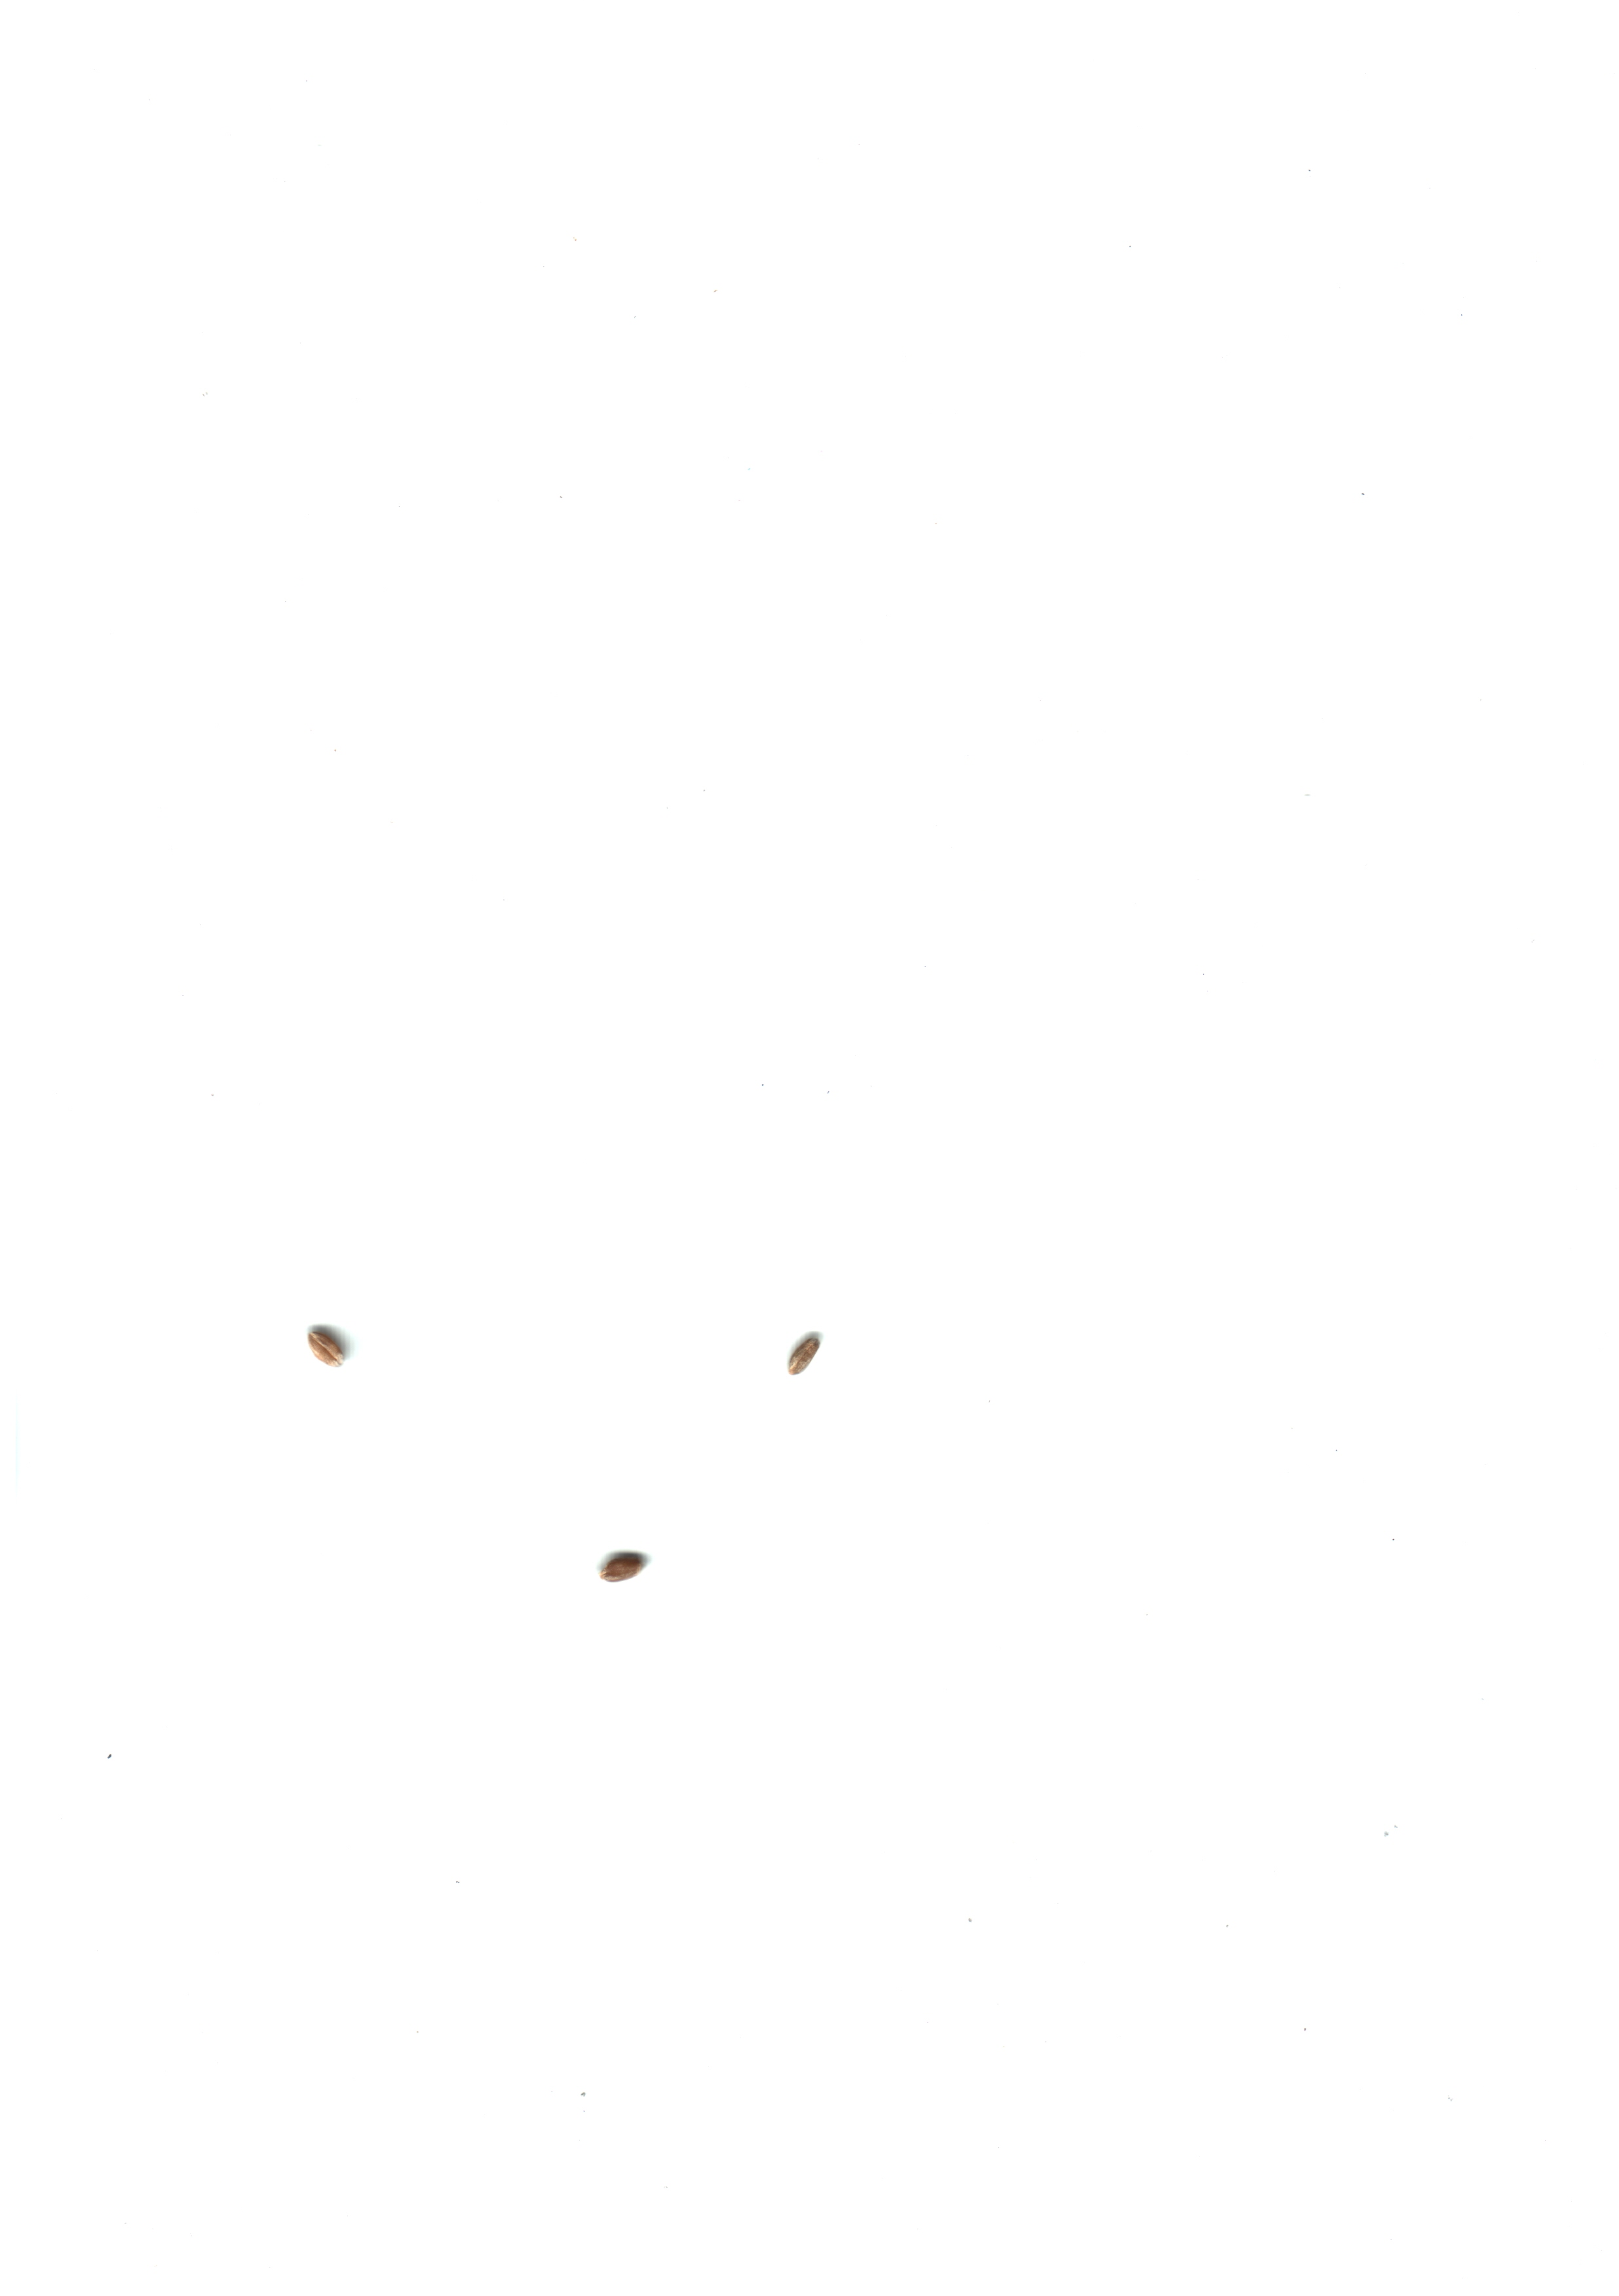grains_3mm: (760, 1307, 855, 1395), (280, 1300, 375, 1388), (582, 1527, 676, 1612)
